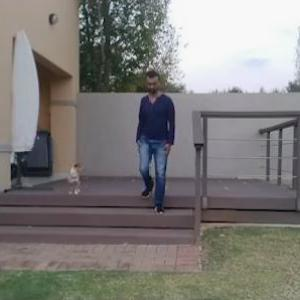follow: (139, 68, 176, 215)
